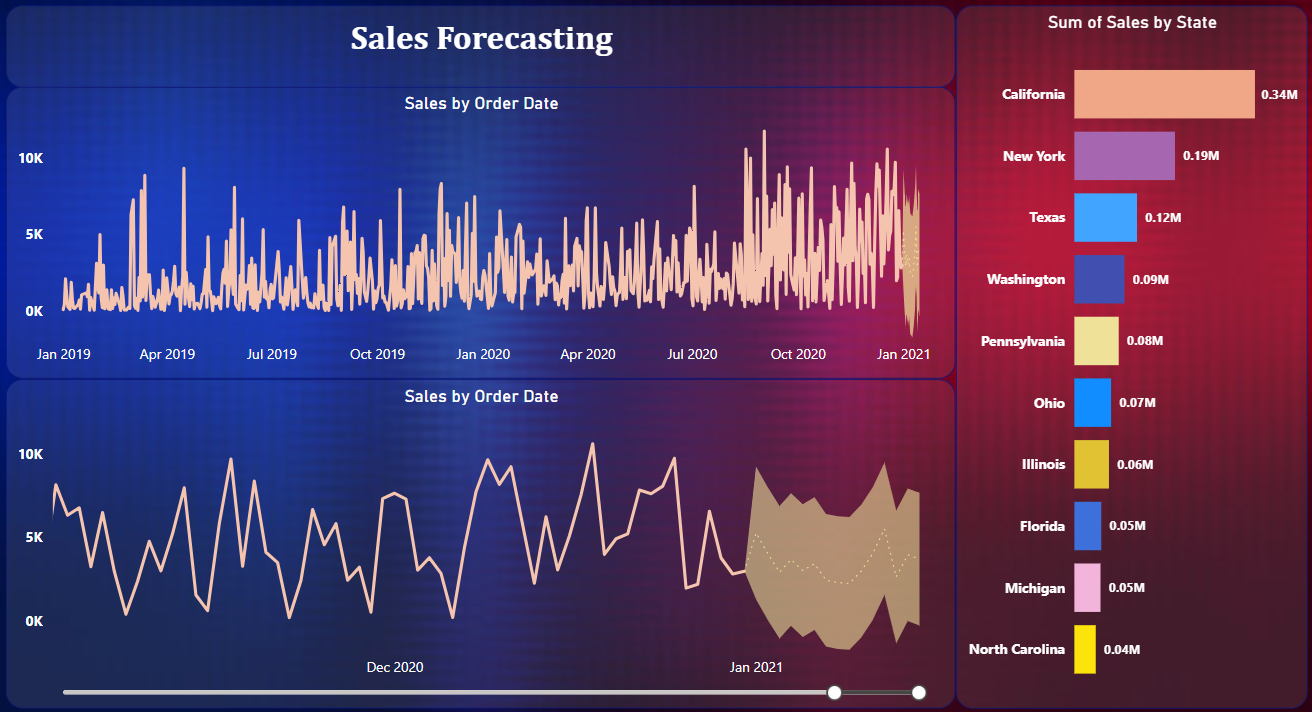

The page's visual inventory and layout, read from the dashboard file:
{"tool":"powerbi","page":{"name":"Page 2","canvas":[1280,720],"ordinal":1},"visuals":[{"type":"lineChart","title":"Sales by Order Date","fields":{"Y":["Sum(SuperStore Sales DataSet.Sales)"],"Category":["SuperStore Sales DataSet.Order Date"]},"box":[14.4,90.9,916.2,281.3],"z":0},{"type":"lineChart","title":"Sales by Order Date","fields":{"Y":["Sum(SuperStore Sales DataSet.Sales)"],"Category":["SuperStore Sales DataSet.Order Date"]},"box":[14.4,372.2,916.2,317.4],"z":1000},{"type":"clusteredBarChart","fields":{"Category":["SuperStore Sales DataSet.State"],"Y":["Sum(SuperStore Sales DataSet.Sales)"]},"box":[930.6,11.5,339,678.1],"z":1001},{"type":"textbox","box":[14.4,11.5,916.2,79.4],"z":1002}]}

Visuals, with their boxes on the page's 1280x720 design canvas (x1, y1, x2, y2). These are canvas units, not pixel positions in the 1312x712 screenshot, which may show the page scaled, cropped or inside an application window:
"Sales by Order Date" lineChart: 14 91 931 372
"Sales by Order Date" lineChart: 14 372 931 690
clusteredBarChart - SuperStore Sales DataSet.State x Sum(SuperStore Sales DataSet.Sales): 931 12 1270 690
textbox: 14 12 931 91
